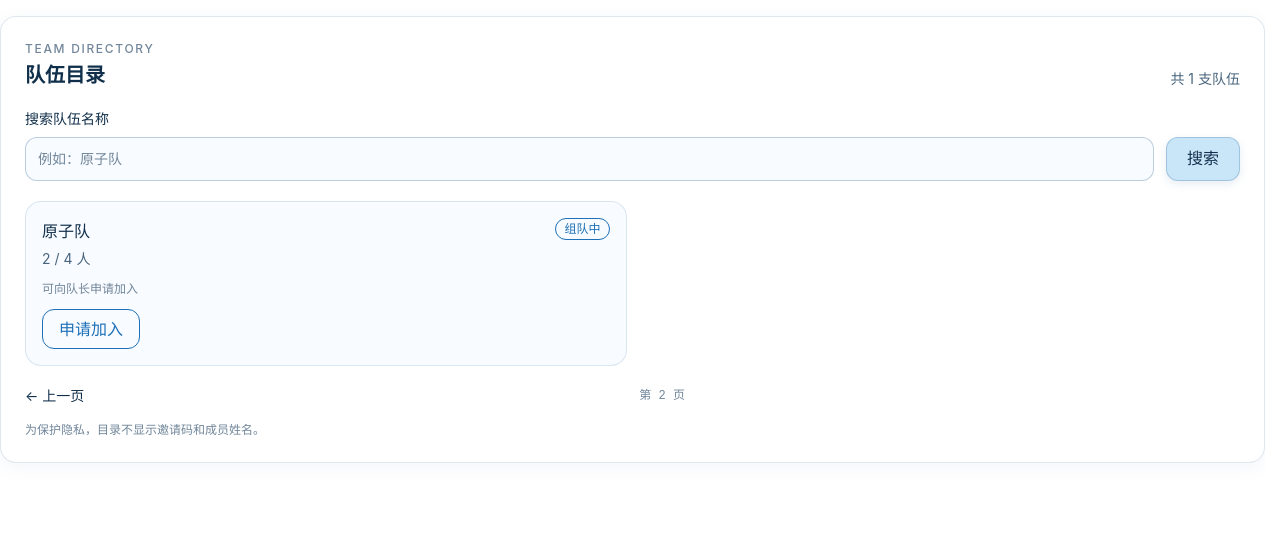
Test: student campus team center › submits one application from the directory and marks the target pending
Click the button "申请加入".
click(91, 329)  # box [42,309,140,349]
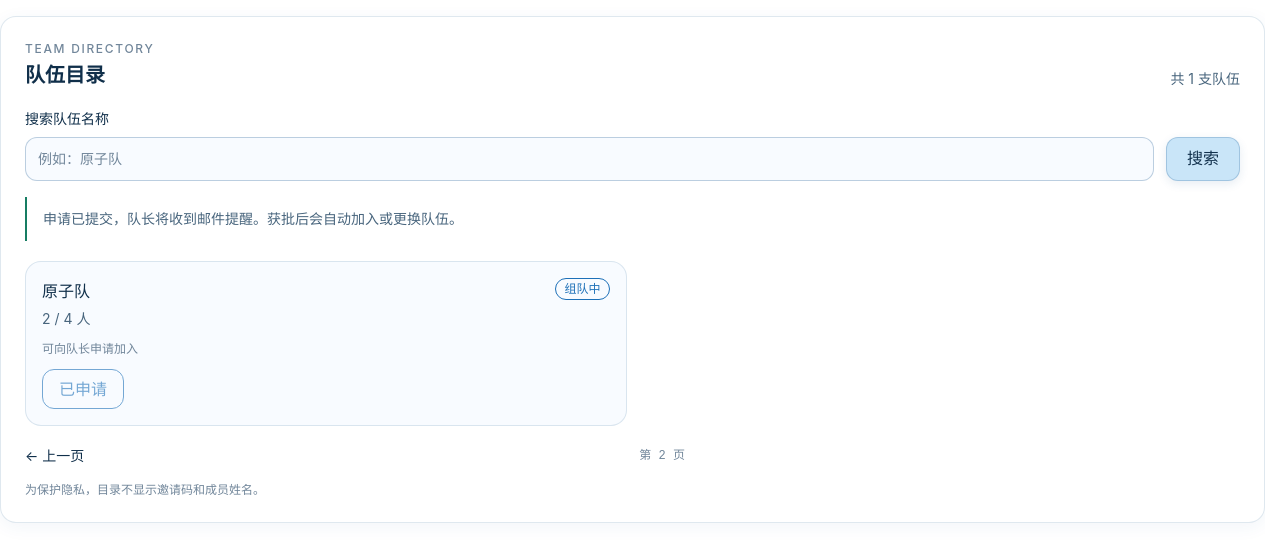
Now the button "已申请" is disabled, box [42,369,124,409]
